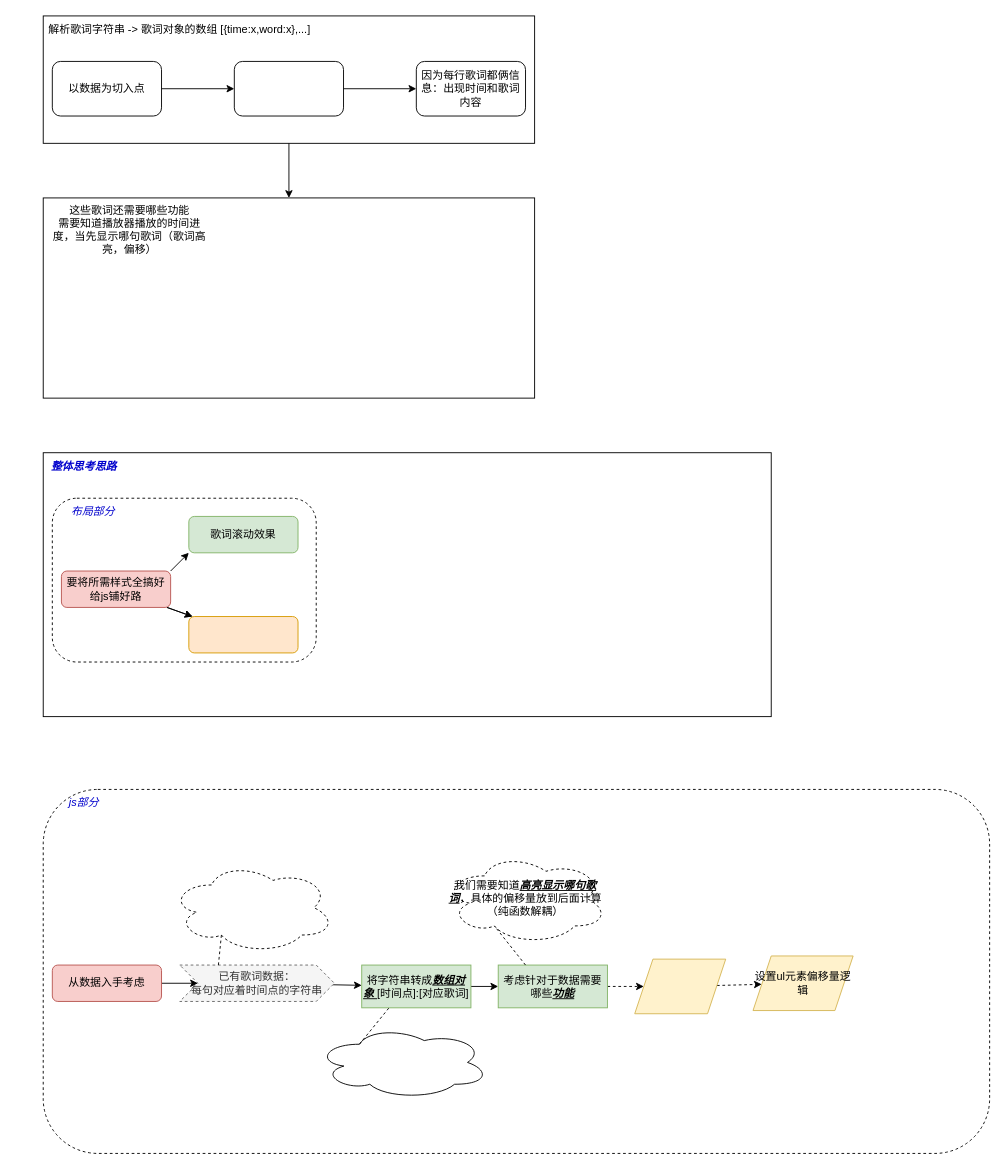
Image size: 1006x1169. Some labels were removed from this diagram. Here are the shapes that lost their labels. From the top down, the centre of each, then its label:
At (288,88): "数据是一堆歌词的字符串，我们需要给它转称数组使用".
At (243,634): "歌词放大缩小效果".
At (252,907): "但是字符串并不好用 前端更喜欢 对象或字符串".
At (680,986): "创建界面 创建歌词li".
At (402,1062): "酱紫，数据处理代码和 view解耦 方便维护以及测试".
